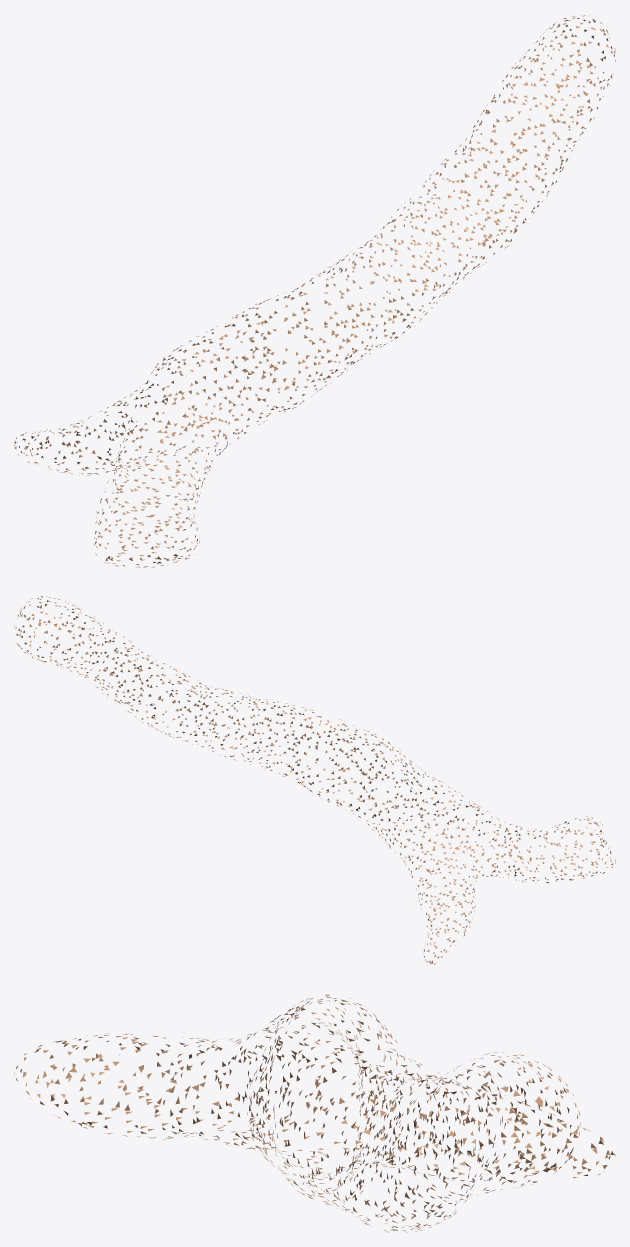
File: morph_005.glb
3 renders of one model, top to bottom at view 1: azimuth 30°, elevation 25°; view 2: azimuth 150°, elevation 25°; view 3: azimuth 270°, elevation 25°, orthographic. The views are drawn at different scales.
Size of the model in its own units: 118 by 58.33 by 62.93.
